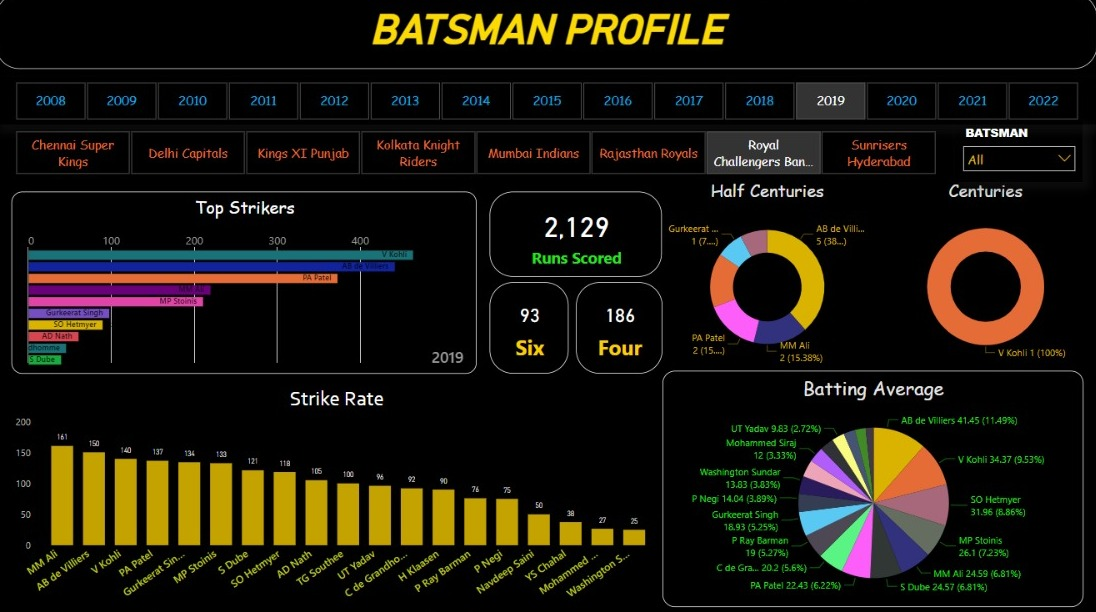

The dashboard page shown, as its layout file describes it:
{"tool":"powerbi","page":{"name":"Batsman","canvas":[1420,800],"ordinal":2},"visuals":[{"type":"textbox","box":[0,0,1416.4,96.5],"z":0},{"type":"slicer","fields":{"Values":["BATSMAN SEASONAL.Season"]},"box":[0,107.2,1416.4,61.6],"z":1000},{"type":"slicer","fields":{"Values":["BATSMAN SEASONAL.Batting Team"]},"box":[0,169.9,1232.9,68.5],"z":2000},{"type":"wishyoulizationbarchartrace","title":"Top Strikers","fields":{"value":["Sum(BATSMAN SEASONAL.Runs Scored)"],"year":["BATSMAN SEASONAL.Season"],"name":["BATSMAN SEASONAL.Batsman"]},"box":[20,254.3,598.6,234.3],"z":3000},{"type":"columnChart","title":"Strike Rate","fields":{"Category":["BATSMAN SEASONAL.Batsman"],"Y":["Avg(BATSMAN SEASONAL.Strike Rate)"],"Series":["BATSMAN SEASONAL.Batting Team"]},"box":[20,504.3,837.1,285.7],"z":4000},{"type":"donutChart","title":"Centuries","fields":{"Category":["BATSMAN SEASONAL.Batsman"],"Y":["Sum(BATSMAN SEASONAL.Centuries)"]},"box":[1127.1,238.6,292.9,247.1],"z":5000},{"type":"donutChart","title":"Half Centuries","fields":{"Category":["BATSMAN SEASONAL.Batsman"],"Y":["Sum(BATSMAN SEASONAL.Half Centuries)"]},"box":[857.1,238.6,270,248.6],"z":6000},{"type":"card","fields":{"Values":["Sum(BATSMAN SEASONAL.Four)"]},"box":[745.9,371.6,110.8,117.6],"z":7000},{"type":"card","fields":{"Values":["Sum(BATSMAN SEASONAL.Six)"]},"box":[635.1,371.6,101.4,117.6],"z":8000},{"type":"slicer","fields":{"Values":["BATSMAN SEASONAL.Batsman"]},"box":[1234.3,162.9,164.3,78.6],"z":9000},{"type":"pieChart","title":"Batting Average","fields":{"Category":["BATSMAN SEASONAL.Batsman"],"Y":["Avg(BATSMAN SEASONAL.Batting Average)"]},"box":[857.1,485.7,541.4,304.3],"z":10000},{"type":"card","fields":{"Values":["Sum(BATSMAN SEASONAL.Runs Scored)"]},"box":[635.1,254.1,221.6,109.5],"z":11000}]}

Visuals, with their boxes in screenshot pixels (x1, y1, x2, y2), scaled from the page's 1420x800 canvas onto the 1096x612 screenshot:
textbox: 0/0/1093/74
slicer - BATSMAN SEASONAL.Season: 0/82/1093/129
slicer - BATSMAN SEASONAL.Batting Team: 0/130/952/182
"Top Strikers" wishyoulizationbarchartrace: 15/195/477/374
"Strike Rate" columnChart: 15/386/662/604
"Centuries" donutChart: 870/183/1095/372
"Half Centuries" donutChart: 662/183/870/373
card - Sum(BATSMAN SEASONAL.Four): 576/284/661/374
card - Sum(BATSMAN SEASONAL.Six): 490/284/568/374
slicer - BATSMAN SEASONAL.Batsman: 953/125/1079/185
"Batting Average" pieChart: 662/372/1079/604
card - Sum(BATSMAN SEASONAL.Runs Scored): 490/194/661/278
